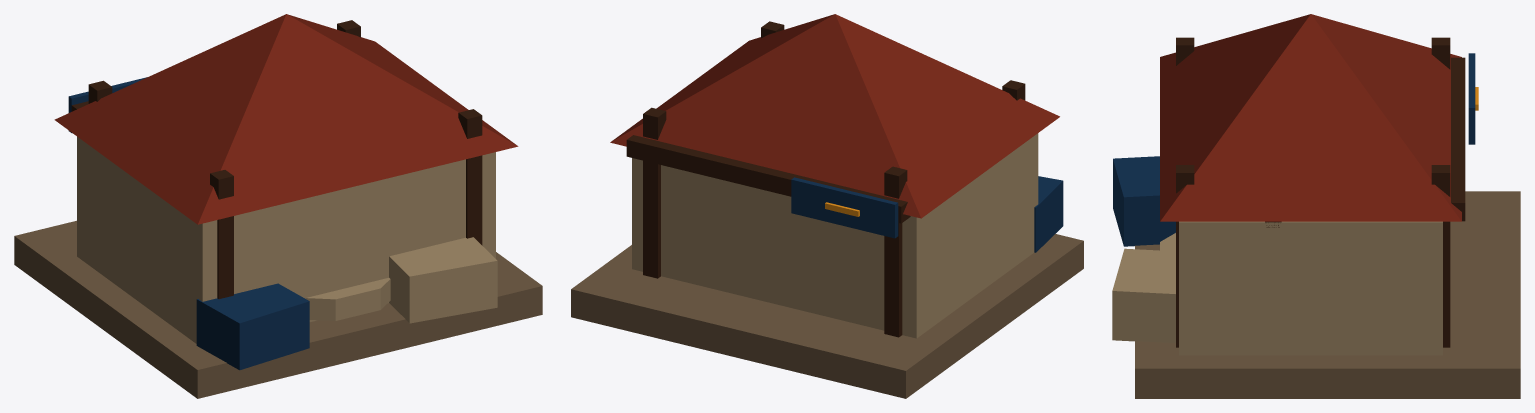
The model's file is MiningCamp_authoring.obj.
3 renders of one model, left to right at view 1: azimuth 30°, elevation 25°; view 2: azimuth 150°, elevation 25°; view 3: azimuth 270°, elevation 25°, orthographic. The views are drawn at different scales.
Parts seen in each view (by area): view 1: Roof, StorehouseWalls, Foundation, OreBinGold, OreBinStone, TimberPost, MineShaftRim; view 2: Roof, StorehouseWalls, Foundation, TimberPost, TimberBeam, Sign, OreBinGold; view 3: Roof, StorehouseWalls, Foundation, OreBinStone, OreBinGold, TimberPost, TimberBeam, Sign.
Part boxes in pixels (<box>): Roof: <box>54,14,518,224</box>; StorehouseWalls: <box>77,136,495,343</box>; Foundation: <box>14,220,542,398</box>; OreBinGold: <box>196,283,309,370</box>; OreBinStone: <box>389,237,497,323</box>; TimberPost: <box>88,20,482,298</box>; MineShaftRim: <box>305,278,390,320</box>; Roof: <box>610,14,1059,218</box>; StorehouseWalls: <box>632,133,1038,338</box>; Foundation: <box>571,234,1083,398</box>; TimberPost: <box>643,21,1025,337</box>; TimberBeam: <box>626,135,910,223</box>; Sign: <box>791,177,898,238</box>; OreBinGold: <box>1034,176,1063,252</box>; Roof: <box>1160,14,1461,221</box>; StorehouseWalls: <box>1179,221,1442,355</box>; Foundation: <box>1135,191,1520,398</box>; OreBinStone: <box>1112,248,1175,343</box>; OreBinGold: <box>1113,156,1175,246</box>; TimberPost: <box>1176,37,1450,347</box>; TimberBeam: <box>1451,57,1465,221</box>; Sign: <box>1468,53,1475,144</box>.
Size of the model in its own units: 5 by 3.9 by 4.87.
